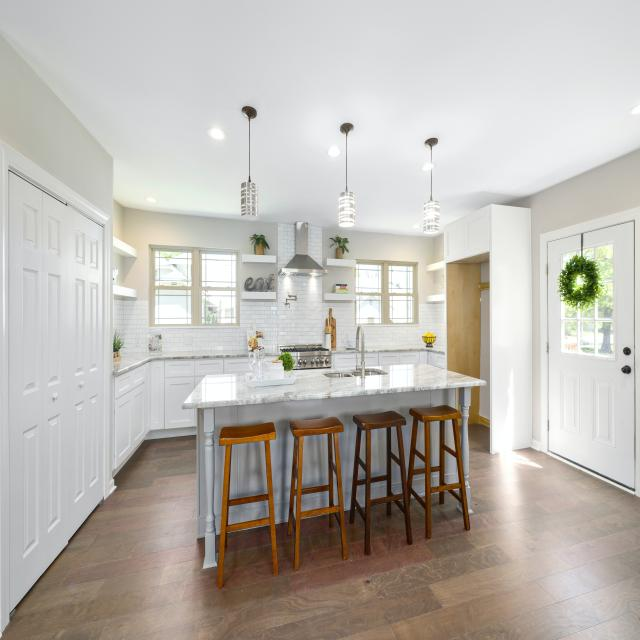floor: (0, 423, 640, 640)
wall: (0, 34, 114, 482), (507, 148, 640, 442), (148, 223, 358, 353), (123, 207, 278, 302), (444, 204, 492, 454), (492, 204, 532, 454), (322, 228, 434, 304), (447, 263, 481, 379), (363, 304, 434, 346), (479, 289, 490, 420), (123, 300, 148, 353), (308, 226, 322, 267), (433, 304, 445, 345), (113, 198, 124, 242), (113, 252, 124, 287), (434, 233, 444, 263), (434, 270, 444, 295), (480, 261, 490, 283), (359, 328, 361, 346), (434, 301, 444, 304)
